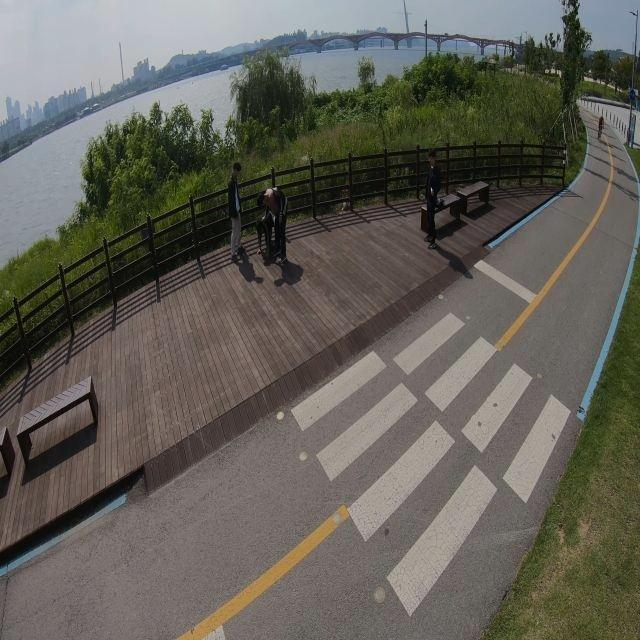fight: (254, 186, 290, 266)
non-fight: (423, 150, 443, 248), (227, 162, 246, 261)
